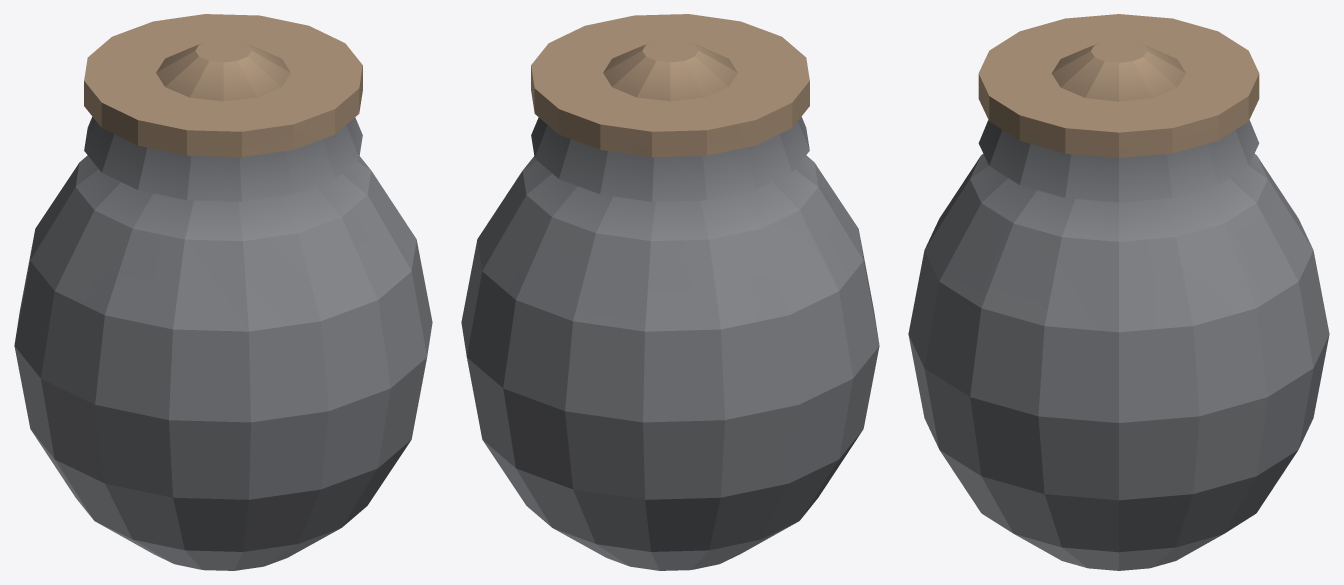
File: furn_onggi__charcoal.glb
3 views of the same model, side by side, from view 1: azimuth 30°, elevation 25°; view 2: azimuth 150°, elevation 25°; view 3: azimuth 270°, elevation 25° (orthographic).
Size of the model in its own units: 0.6 by 0.79 by 0.6.
